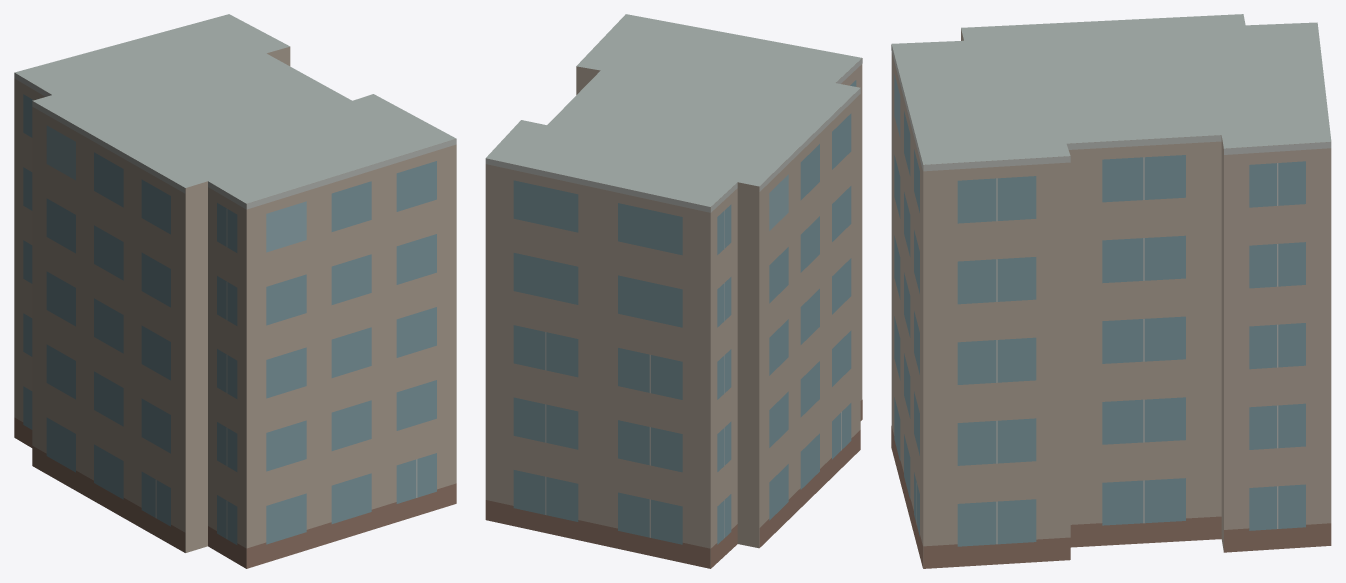
The model's file is survey-upis-32727389.glb.
3 renders of one model, left to right at view 1: azimuth 30°, elevation 25°; view 2: azimuth 150°, elevation 25°; view 3: azimuth 270°, elevation 25°, orthographic. The views are drawn at different scales.
Visible parts, largest first — view 1: survey-upis-32727389.tmp; view 2: survey-upis-32727389.tmp; view 3: survey-upis-32727389.tmp.
Part boxes in pixels (x1,y1,x2,y2): survey-upis-32727389.tmp: [14, 14, 456, 568]; survey-upis-32727389.tmp: [485, 14, 862, 568]; survey-upis-32727389.tmp: [891, 14, 1331, 568].
Bounding box in the file's own units: 12.23 × 15.25 × 15.06.
